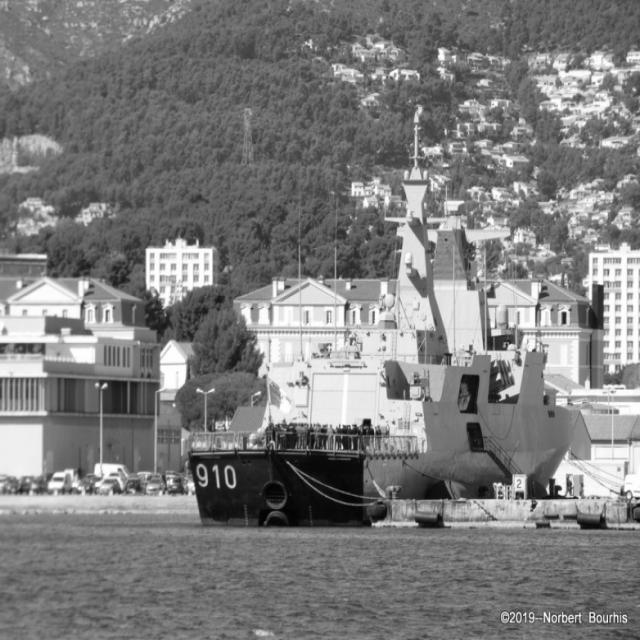Fragata: (186, 103, 580, 535)
